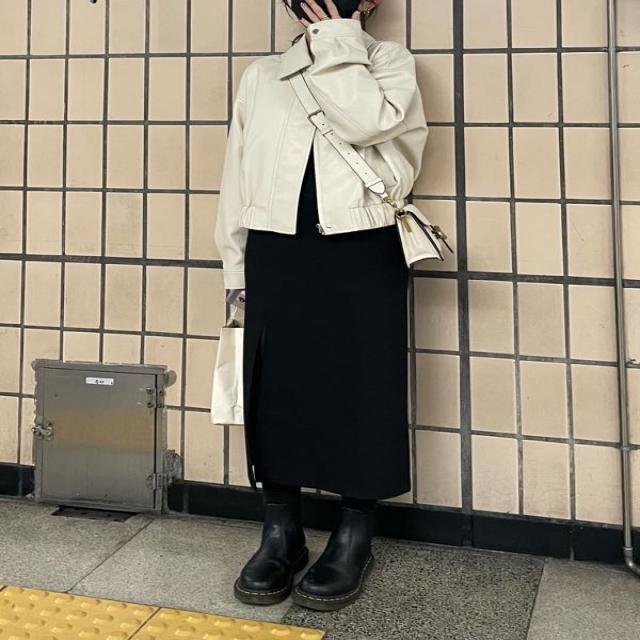jacket: (213, 13, 423, 292)
skirt: (243, 196, 413, 495)
